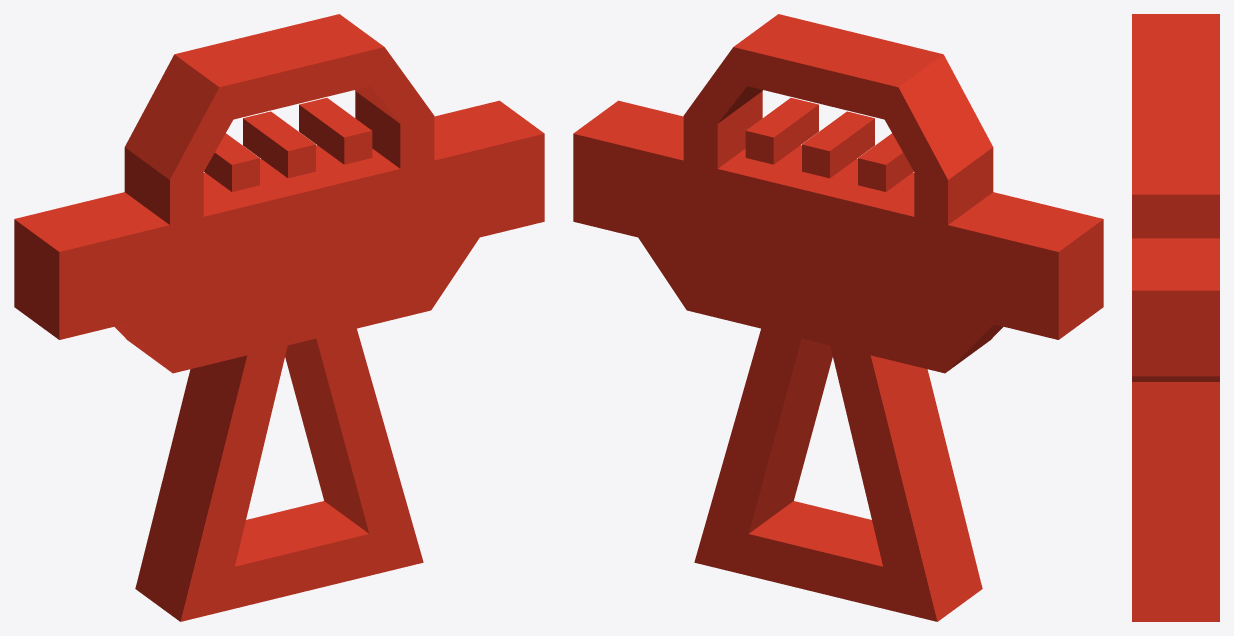
File: Icon_UFO.fbx
3 renders of one model, left to right at view 1: azimuth 30°, elevation 25°; view 2: azimuth 150°, elevation 25°; view 3: azimuth 270°, elevation 25°, orthographic. The views are drawn at different scales.
Visible parts, largest first — view 1: Icon_UFO; view 2: Icon_UFO; view 3: Icon_UFO.
Part boxes in pixels (left/top/right/bottom): Icon_UFO: left=14, top=14, right=544, bottom=621; Icon_UFO: left=573, top=14, right=1103, bottom=621; Icon_UFO: left=1132, top=14, right=1219, bottom=621.
Size of the model in its own units: 74.88 by 77.41 by 12.06.
